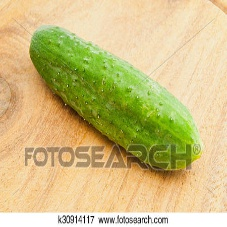cucumber: (26, 22, 201, 172)
